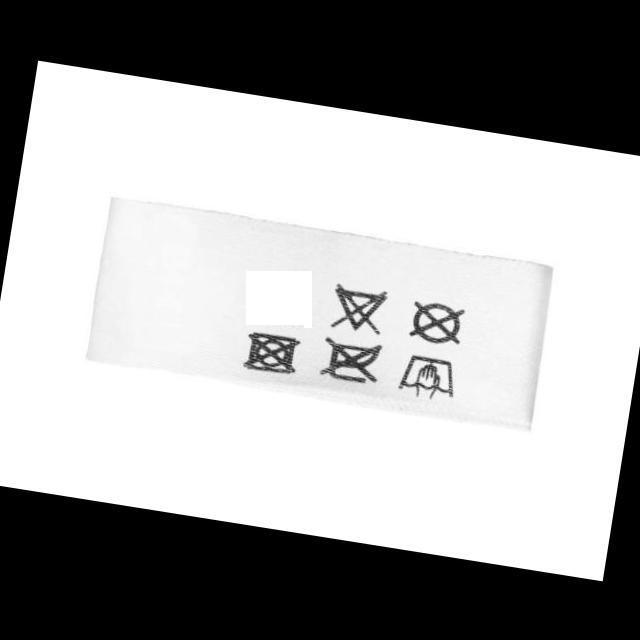DN_bleach: (326, 278, 391, 338)
DN_dry_clean: (404, 294, 467, 348)
DN_iron: (316, 332, 386, 388)
DN_tumble_dry: (240, 326, 304, 380)
hand_wash: (394, 348, 462, 406)
